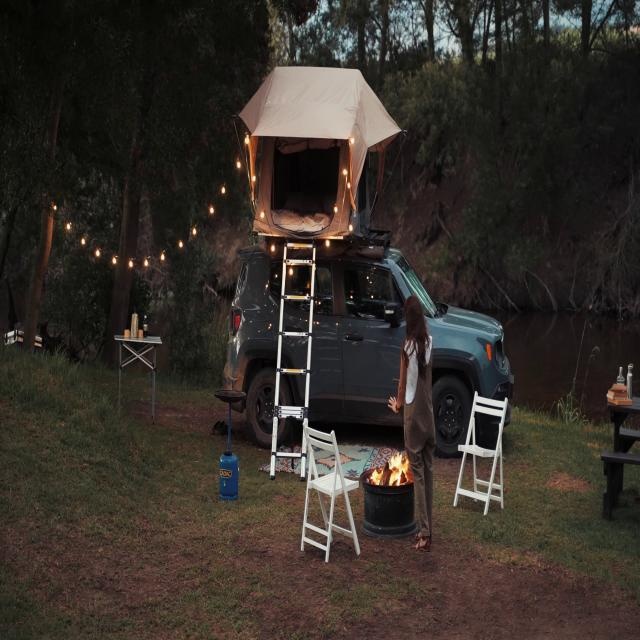Fire: (376, 443, 410, 490)
